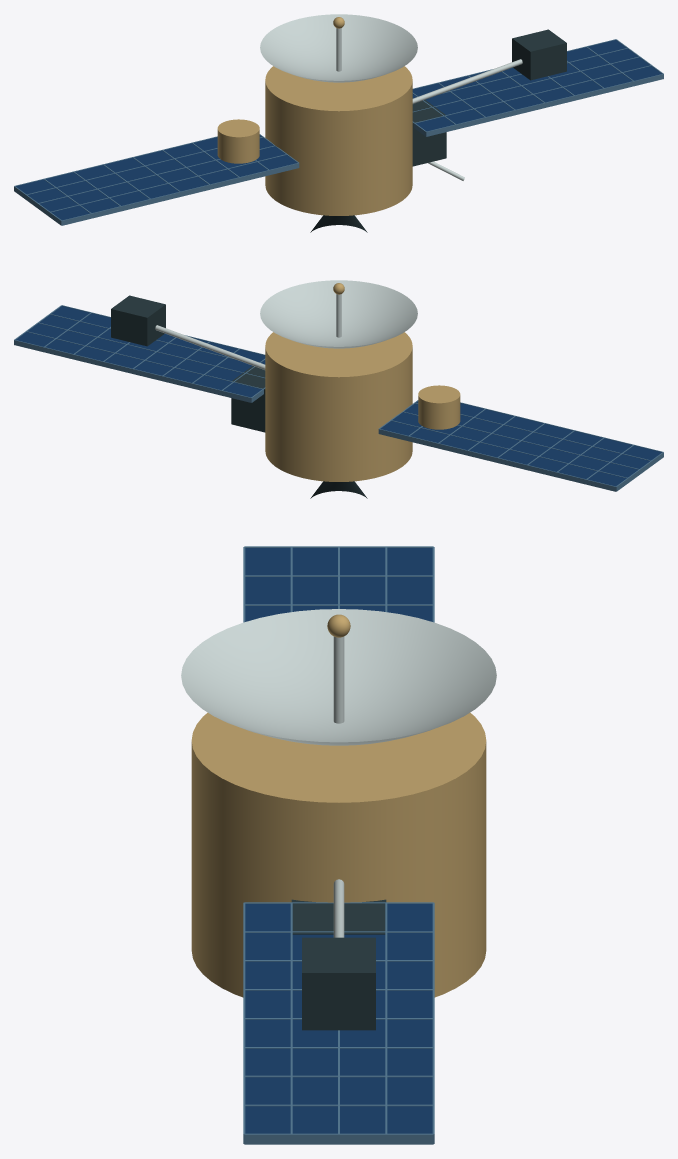
Rendered from rosetta.glb.
The picture shows the model from 3 angles, top to bottom: view 1: azimuth 30°, elevation 25°; view 2: azimuth 150°, elevation 25°; view 3: azimuth 270°, elevation 25°; orthographic projection. The views are drawn at different scales.
Visible parts, largest first — view 1: solar (×2), body, antenna, instruments, payload, propulsion; view 2: solar (×2), body, antenna, instruments, payload, propulsion; view 3: body, solar (×2), antenna, instruments, payload.
Part boxes in pixels (bbox=[...]): solar (×2): bbox=[14, 39, 663, 225]; body: bbox=[265, 66, 412, 215]; antenna: bbox=[260, 14, 417, 82]; instruments: bbox=[217, 29, 566, 163]; payload: bbox=[412, 100, 464, 180]; propulsion: bbox=[310, 215, 367, 232]; solar (×2): bbox=[14, 305, 663, 491]; body: bbox=[265, 332, 412, 481]; antenna: bbox=[260, 280, 417, 348]; instruments: bbox=[111, 295, 460, 429]; payload: bbox=[231, 366, 265, 432]; propulsion: bbox=[310, 481, 367, 498]; body: bbox=[191, 712, 486, 997]; solar (×2): bbox=[243, 546, 434, 1144]; antenna: bbox=[181, 609, 496, 745]; instruments: bbox=[302, 879, 375, 1030]; payload: bbox=[291, 899, 386, 934].
Size of the model in its own units: 6.61 by 2.31 by 1.5.
